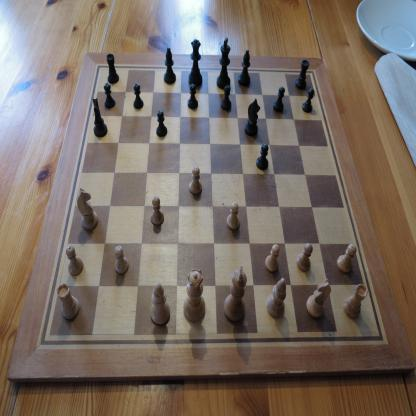black-bishop: (238, 49, 250, 87), (164, 47, 176, 84)
black-king: (216, 37, 231, 90)
black-knight: (244, 98, 261, 137), (93, 98, 108, 138)
black-pawn: (256, 144, 270, 170), (103, 83, 116, 109), (156, 110, 168, 138), (187, 83, 199, 110), (273, 86, 285, 113), (220, 85, 232, 111), (302, 88, 314, 113), (133, 83, 144, 110)
black-queen: (188, 38, 203, 86)
black-rook: (295, 59, 310, 90), (106, 53, 119, 84)
white-bishop: (150, 282, 170, 326), (266, 278, 286, 318)
white-king: (224, 265, 248, 323)
white-knight: (306, 278, 332, 319), (76, 187, 98, 231)
white-pawn: (336, 243, 357, 274), (65, 245, 84, 276), (296, 242, 313, 272), (265, 244, 280, 273), (114, 246, 129, 275), (150, 196, 164, 226), (188, 166, 202, 195), (226, 202, 240, 231)
white-queen: (183, 268, 206, 322)
white-rook: (56, 282, 80, 320), (343, 283, 368, 319)
